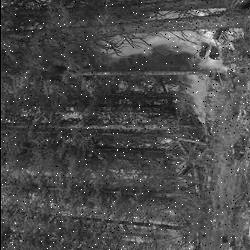fire: (85, 1, 240, 125), (110, 128, 190, 250)
